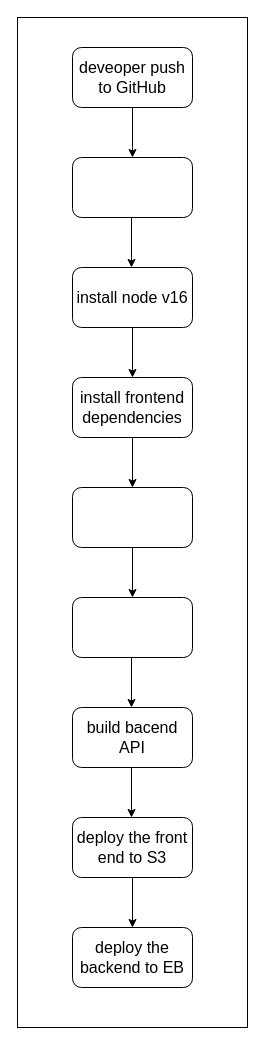
Image size: 266x1045. Some labels were removed from this diagram. Each missing label, with the centre of its shape:
build frontend: the point at 132,627
install API dependencies: the point at 132,517
trigers the pipeline: the point at 132,187
